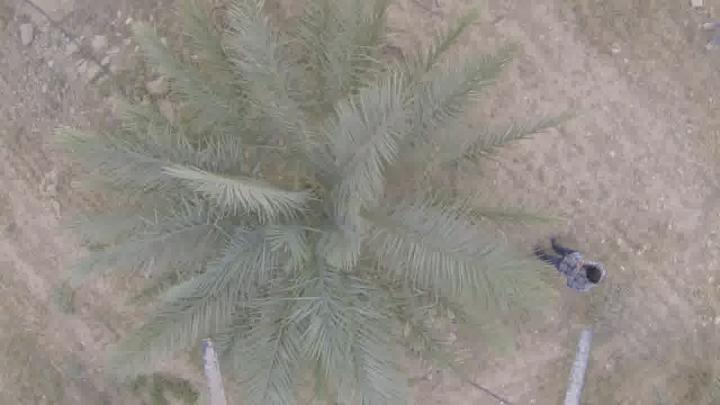Date-Palm-Crown: (174, 55, 446, 344)
